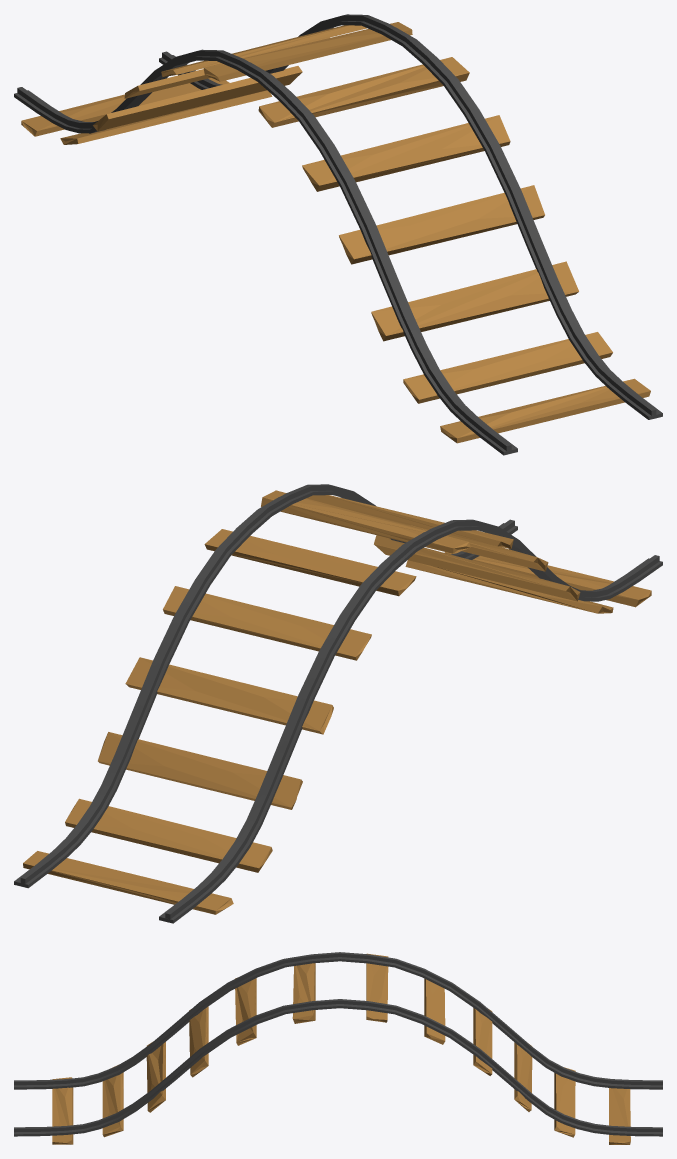
Rendered from Model_Track_Bump.FBX.
3 views of the same model, one above another, from view 1: azimuth 30°, elevation 25°; view 2: azimuth 150°, elevation 25°; view 3: azimuth 270°, elevation 25° (orthographic). The views are drawn at different scales.
Parts seen in each view (by area): view 1: Track_BumpUp; view 2: Track_BumpUp; view 3: Track_BumpUp.
Boxes of the visible parts, left/top/right/bottom form: Track_BumpUp: left=14, top=14, right=662, bottom=455; Track_BumpUp: left=14, top=484, right=662, bottom=923; Track_BumpUp: left=14, top=952, right=662, bottom=1144.
Size of the model in its own units: 205 by 206 by 885.
